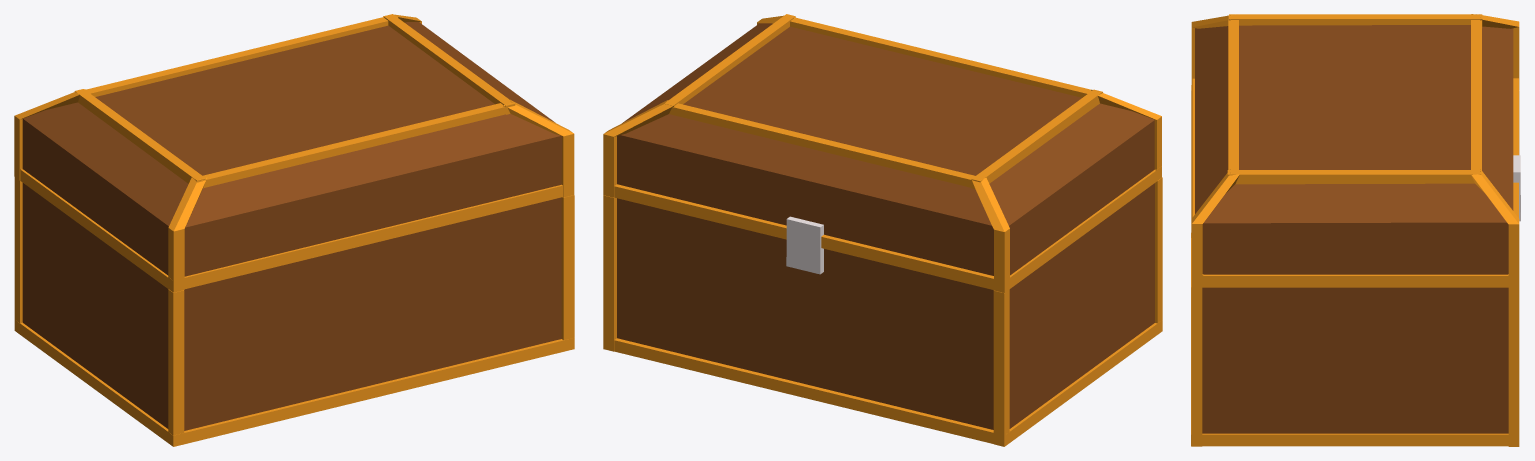
File: closedchest.glb
3 renders of one model, left to right at view 1: azimuth 30°, elevation 25°; view 2: azimuth 150°, elevation 25°; view 3: azimuth 270°, elevation 25°, orthographic. The views are drawn at different scales.
Parts seen in each view (by area): view 1: Cube.002, Cube, Cube.009; view 2: Cube.002, Cube, Cube.009; view 3: Cube.002, Cube, Cube.009.
Boxes of the visible parts, x1,y1,x2,y2 form: Cube.002: (14,14,574,292); Cube: (22,183,561,430); Cube.009: (14,177,574,446); Cube.002: (603,14,1161,292); Cube: (617,183,1154,429); Cube.009: (603,177,1162,446); Cube.002: (1191,14,1520,287); Cube: (1202,287,1508,433); Cube.009: (1191,85,1519,446).
Size of the model in its own units: 3.02 by 1.74 by 2.07.
